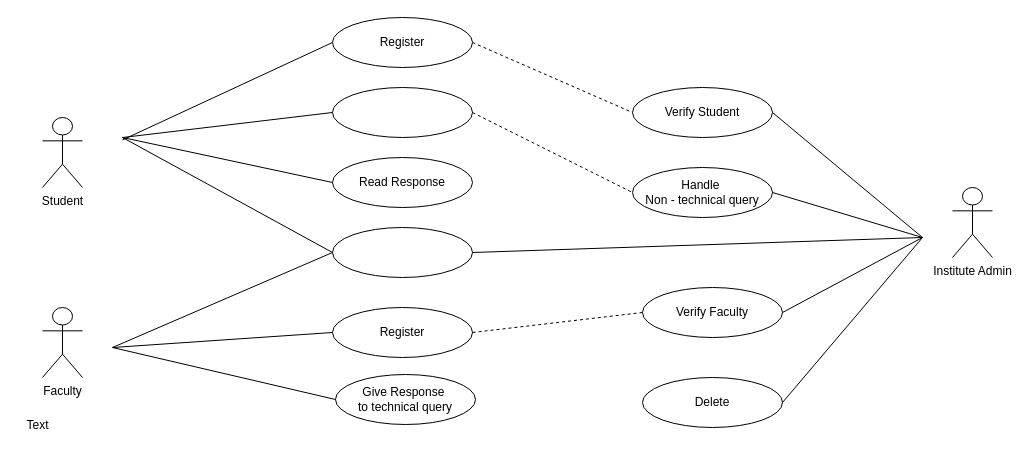
This 1029x453 diagram has some shape labels left out. Each missing label, with the centre of its shape:
"Send Query Technical/ Non -Technical" belongs at [402,112].
"View Previous Query" belongs at [402,252].
